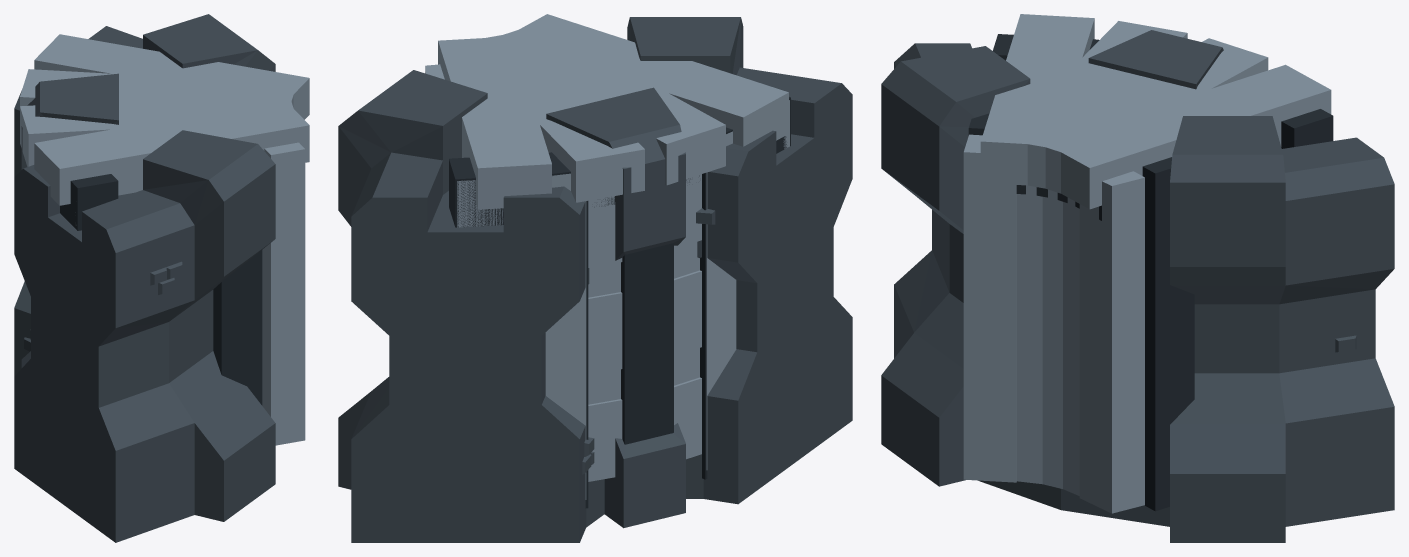
The model's file is SM_CRHex_WallCornerB_Tier3_Steel.fbx.
3 views of the same model, side by side, from view 1: azimuth 30°, elevation 25°; view 2: azimuth 150°, elevation 25°; view 3: azimuth 270°, elevation 25° (orthographic). The views are drawn at different scales.
Visible parts, largest first — view 1: SM_CRHex_WallCornerB_Tier3_Steel_Core, SM_CRHex_WallCornerB_Tier3_Steel_Detail, SM_CRHex_WallCornerB_Tier3_Steel_StyleRibs; view 2: SM_CRHex_WallCornerB_Tier3_Steel_Core, SM_CRHex_WallCornerB_Tier3_Steel_Detail, SM_CRHex_WallCornerB_Tier3_Steel_StyleRibs, SM_CRHex_WallCornerB_Tier3_Steel_StylePanels; view 3: SM_CRHex_WallCornerB_Tier3_Steel_Core, SM_CRHex_WallCornerB_Tier3_Steel_Detail, SM_CRHex_WallCornerB_Tier3_Steel_StyleRibs.
Part boxes in pixels (x1,y1,x2,y2): SM_CRHex_WallCornerB_Tier3_Steel_Core: (14, 14, 275, 542); SM_CRHex_WallCornerB_Tier3_Steel_Detail: (20, 34, 309, 445); SM_CRHex_WallCornerB_Tier3_Steel_StyleRibs: (60, 174, 262, 405); SM_CRHex_WallCornerB_Tier3_Steel_Core: (338, 17, 852, 542); SM_CRHex_WallCornerB_Tier3_Steel_Detail: (425, 14, 789, 499); SM_CRHex_WallCornerB_Tier3_Steel_StyleRibs: (449, 97, 790, 508); SM_CRHex_WallCornerB_Tier3_Steel_StylePanels: (588, 174, 701, 481); SM_CRHex_WallCornerB_Tier3_Steel_Core: (881, 30, 1394, 542); SM_CRHex_WallCornerB_Tier3_Steel_Detail: (963, 14, 1331, 513); SM_CRHex_WallCornerB_Tier3_Steel_StyleRibs: (968, 34, 1333, 511).
Size of the model in its own units: 0.964 by 1.1 by 1.35.
